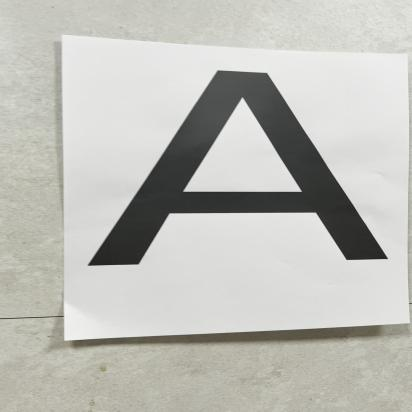seat: (81, 62, 402, 268)
